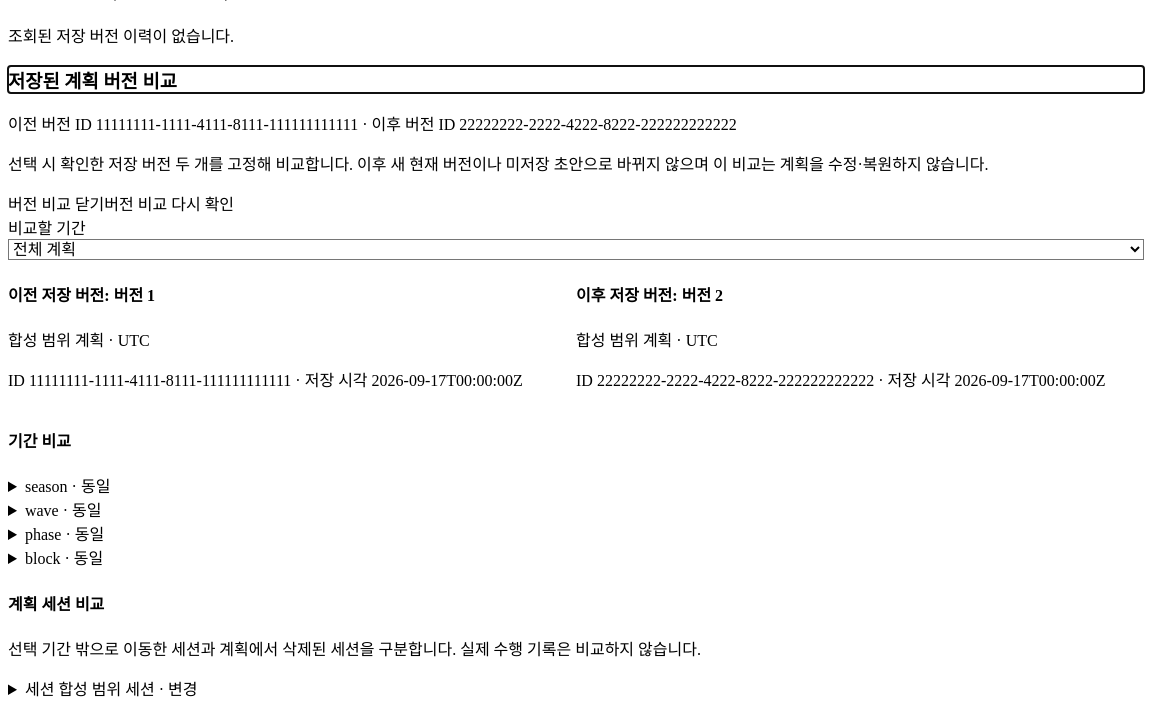
Test: planned session quantity modes › compares legacy scalar and new range snapshots through read-only version history
The image size is (1152, 708).
(page scrolled)
Click the heading "세션 합성 범위 세션 · 변경" at (111, 689), box [25,681,198,698]
(page scrolled)
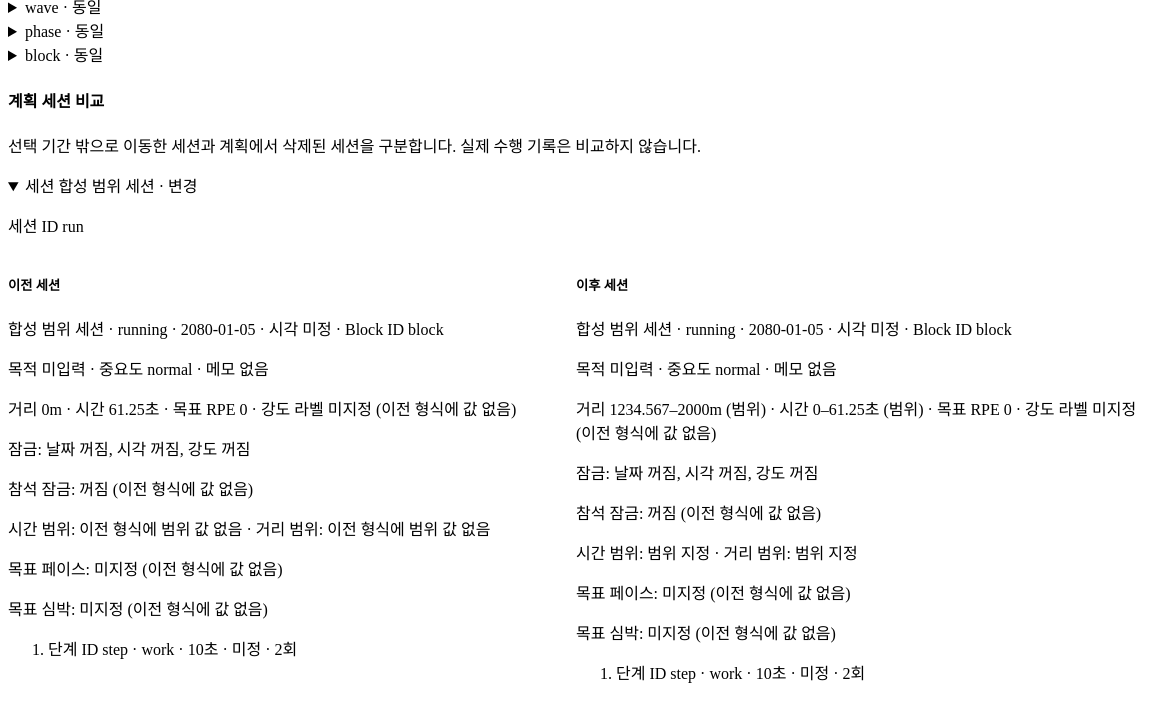
Expected: the text "시간 범위: 이전 형식에 범위 값 없음 · 거리 범위: 이전 형식에 범위 값 없음" is shown, [8,521,490,538]
Expected: the text "시간 0–61.25초 (범위)" is shown, [576,396,1144,444]
